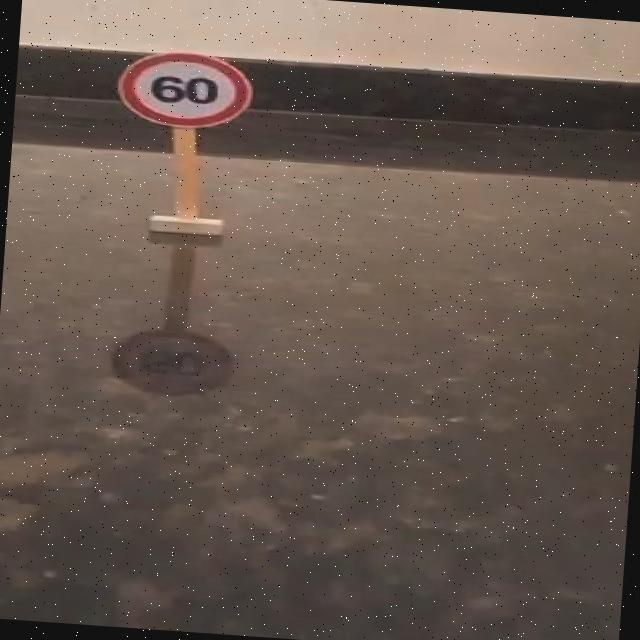Speed60: (108, 44, 262, 135)
